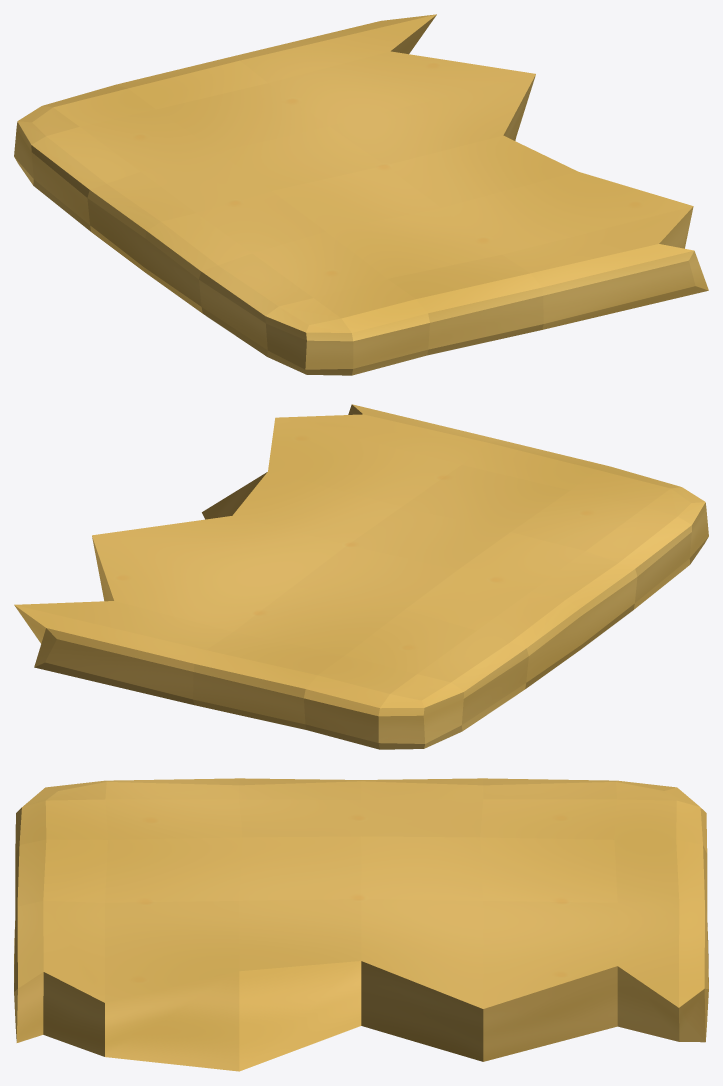
The model's file is ZlamanyKrakers.fbx.
3 renders of one model, top to bottom at view 1: azimuth 30°, elevation 25°; view 2: azimuth 150°, elevation 25°; view 3: azimuth 270°, elevation 25°, orthographic. The views are drawn at different scales.
Parts seen in each view (by area): view 1: ZlamanyKrakers; view 2: ZlamanyKrakers; view 3: ZlamanyKrakers.
Boxes of the visible parts, x1,y1,x2,y2 form: ZlamanyKrakers: (14, 14, 708, 375); ZlamanyKrakers: (14, 404, 708, 749); ZlamanyKrakers: (14, 778, 708, 1071).
Size of what is drawn, in the model's own units: 164 by 21.08 by 200.
Materials: 1 (1 with a texture image).
